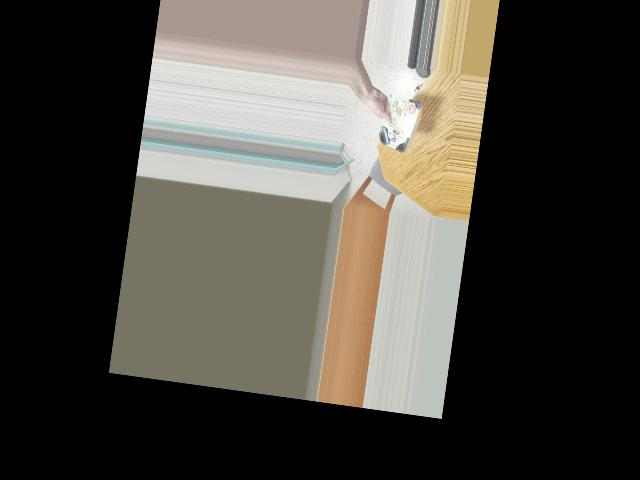cheese: (374, 90, 416, 154)
